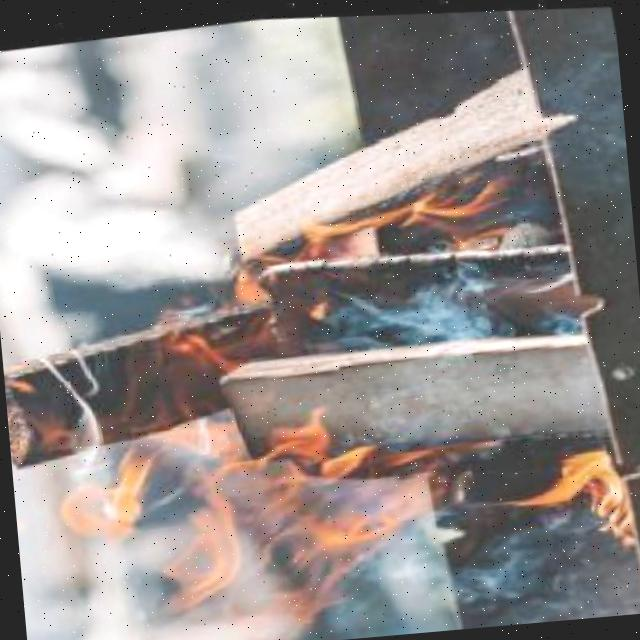fire: (1, 123, 640, 640)
